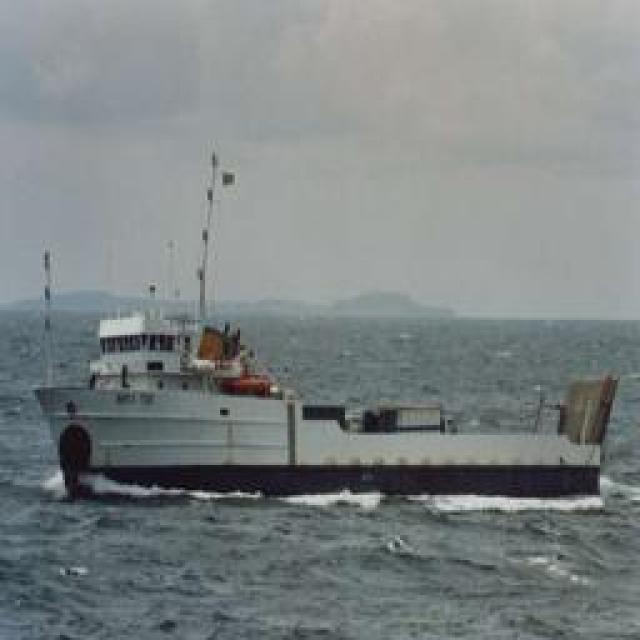CIV_Ship: (24, 309, 614, 499)
